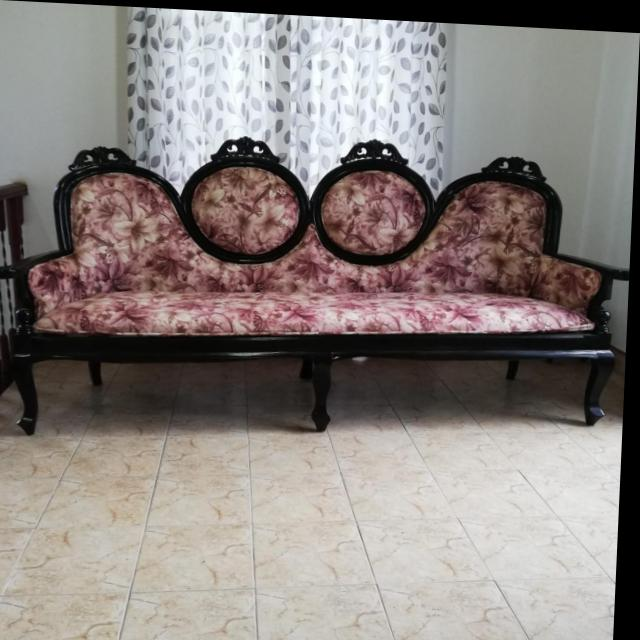Sofa: (0, 120, 636, 455)
